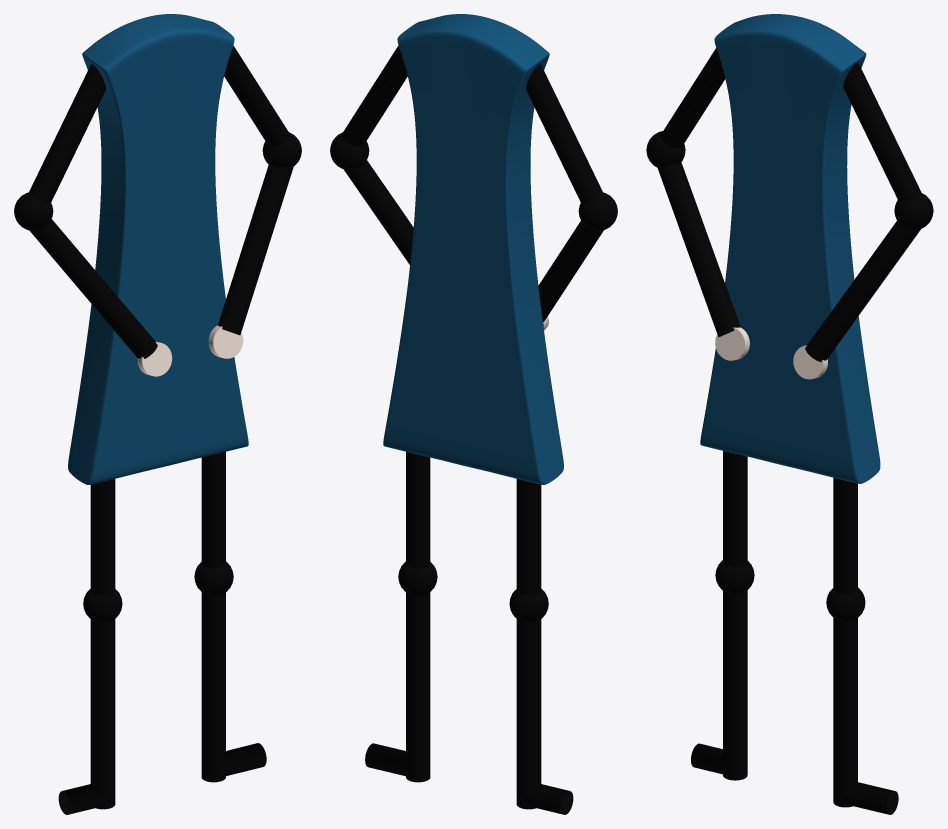
The picture shows the model from 3 angles, left to right: view 1: azimuth 30°, elevation 25°; view 2: azimuth 150°, elevation 25°; view 3: azimuth 330°, elevation 25°; orthographic projection.
Parts seen in each view (by area): view 1: MaleBody, leftForeLeg, rightForeLeg, LeftForeArm, RightForeArm, RightUpperArm, rightUpperLeg, LeftUpperLeg, LeftUpperArm, rightUpperArmSphere, rightFoot, leftFoot (+5 smaller); view 2: MaleBody, leftForeLeg, rightForeLeg, RightUpperArm, rightUpperLeg, LeftUpperLeg, LeftUpperArm, LeftForeArm, RightForeArm, rightUpperArmSphere, rightFoot, leftFoot (+3 smaller); view 3: MaleBody, rightForeLeg, RightForeArm, leftForeLeg, LeftForeArm, LeftUpperArm, LeftUpperLeg, rightUpperLeg, RightUpperArm, leftFoot, LeftUpperArmSphere, leftUpperLegSphere (+5 smaller).
Boxes of the visible parts, bbox=[...] form: MaleBody: bbox=[68, 14, 248, 484]; leftForeLeg: bbox=[201, 592, 225, 782]; rightForeLeg: bbox=[90, 619, 115, 809]; LeftForeArm: bbox=[218, 165, 293, 335]; RightForeArm: bbox=[30, 219, 157, 358]; RightUpperArm: bbox=[28, 64, 105, 202]; rightUpperLeg: bbox=[90, 479, 115, 594]; LeftUpperLeg: bbox=[201, 451, 225, 568]; LeftUpperArm: bbox=[224, 45, 290, 145]; rightUpperArmSphere: bbox=[14, 192, 53, 230]; rightFoot: bbox=[58, 784, 113, 814]; leftFoot: bbox=[223, 743, 266, 775]; MaleBody: bbox=[383, 14, 563, 484]; leftForeLeg: bbox=[406, 592, 430, 782]; rightForeLeg: bbox=[516, 619, 541, 809]; RightUpperArm: bbox=[526, 64, 603, 202]; rightUpperLeg: bbox=[516, 479, 541, 594]; LeftUpperLeg: bbox=[406, 451, 430, 568]; LeftUpperArm: bbox=[341, 45, 407, 145]; LeftForeArm: bbox=[344, 160, 413, 264]; RightForeArm: bbox=[538, 221, 603, 321]; rightUpperArmSphere: bbox=[578, 192, 617, 230]; rightFoot: bbox=[518, 784, 573, 814]; leftFoot: bbox=[365, 743, 408, 776]; MaleBody: bbox=[700, 14, 880, 483]; rightForeLeg: bbox=[723, 590, 747, 780]; RightForeArm: bbox=[657, 162, 740, 337]; leftForeLeg: bbox=[833, 618, 857, 807]; LeftForeArm: bbox=[805, 221, 920, 361]; LeftUpperArm: bbox=[843, 62, 921, 201]; LeftUpperLeg: bbox=[833, 477, 857, 593]; rightUpperLeg: bbox=[723, 451, 747, 566]; RightUpperArm: bbox=[661, 48, 725, 148]; leftFoot: bbox=[844, 782, 898, 814]; LeftUpperArmSphere: bbox=[894, 193, 933, 229]; leftUpperLegSphere: bbox=[826, 587, 865, 621].
Size of the model in its own units: 133 by 345 by 36.09.
